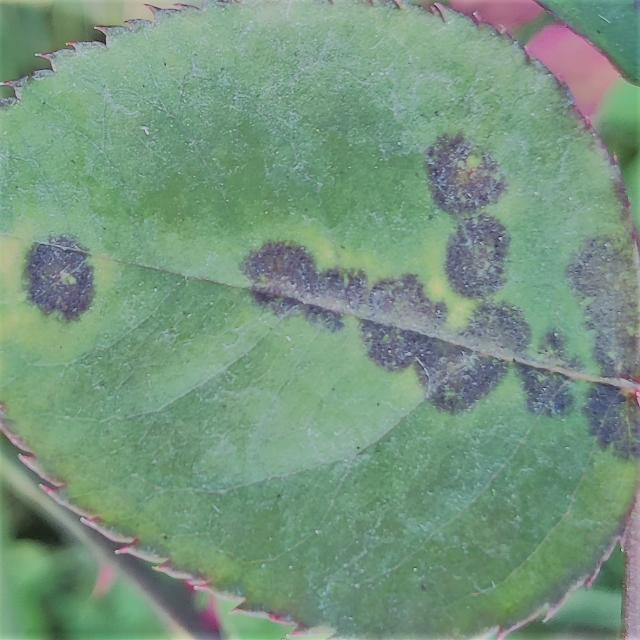Black_spot: (20, 231, 98, 324)
Rose: (0, 0, 639, 638)
